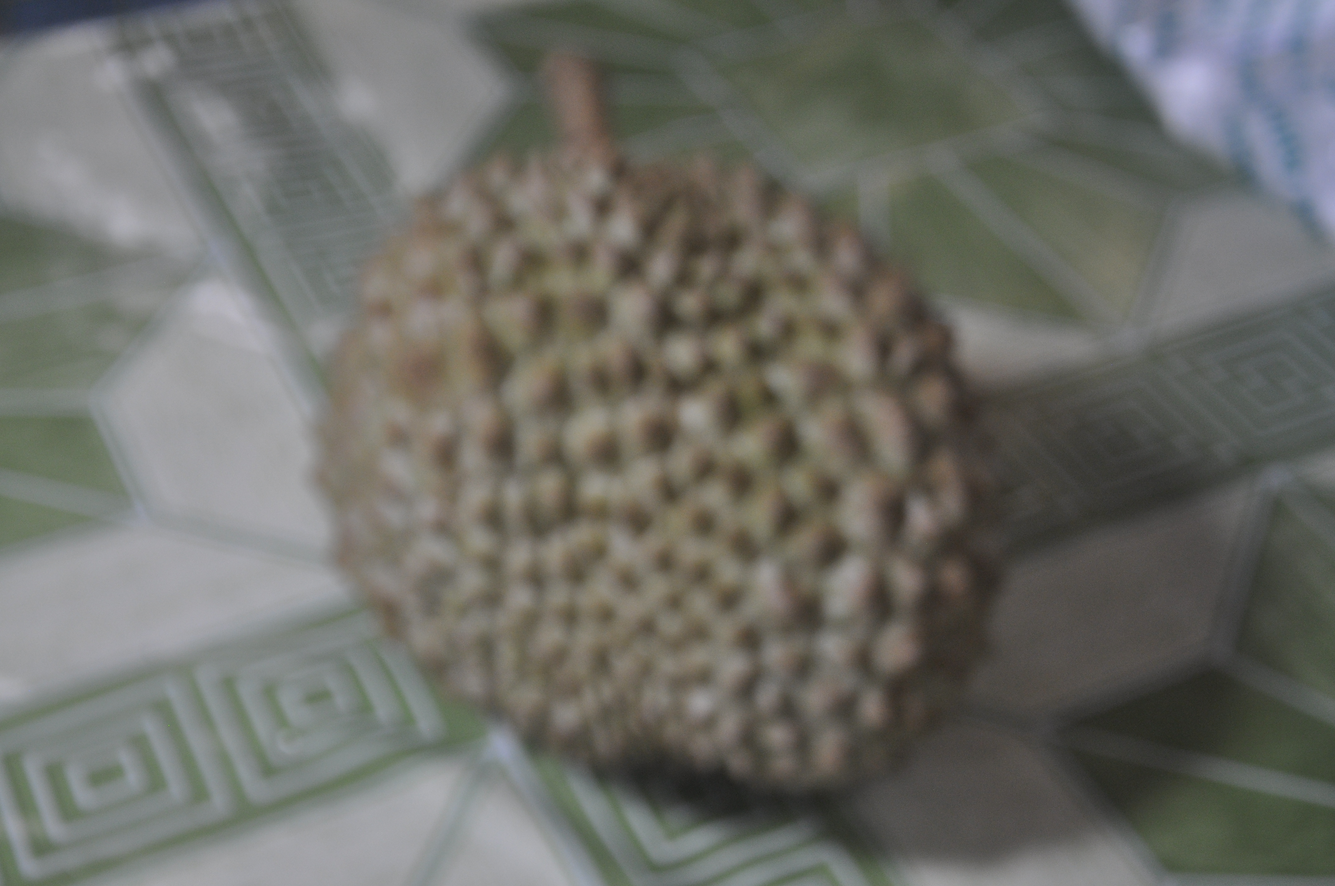mature: (319, 56, 998, 806)
